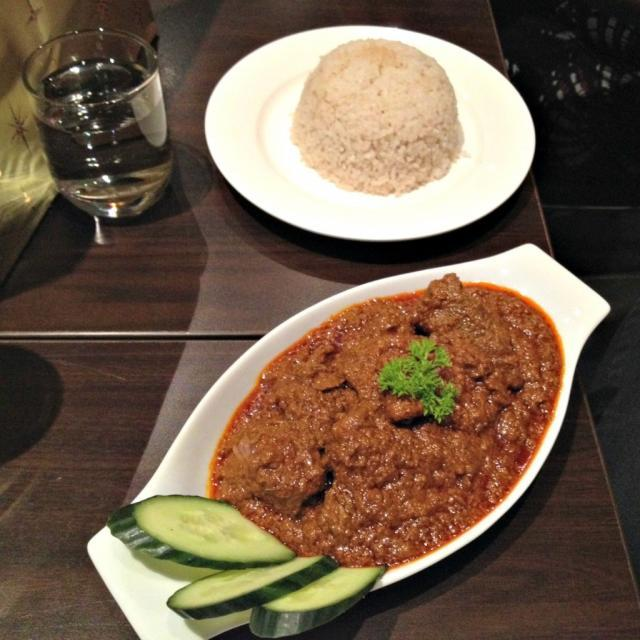Zucchini: (167, 540, 332, 628), (247, 564, 379, 636)
